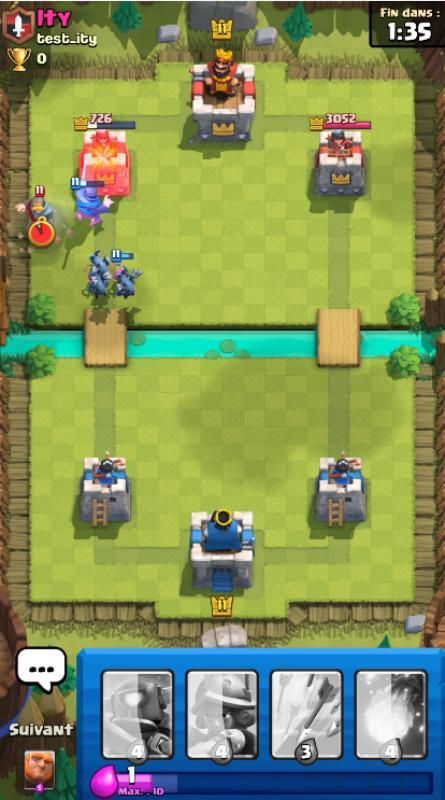archere: (110, 249, 135, 285), (82, 263, 96, 284)
chevalier: (70, 154, 115, 226), (14, 185, 54, 230)
gargouille: (114, 269, 144, 298), (89, 269, 111, 298), (89, 250, 111, 276)
